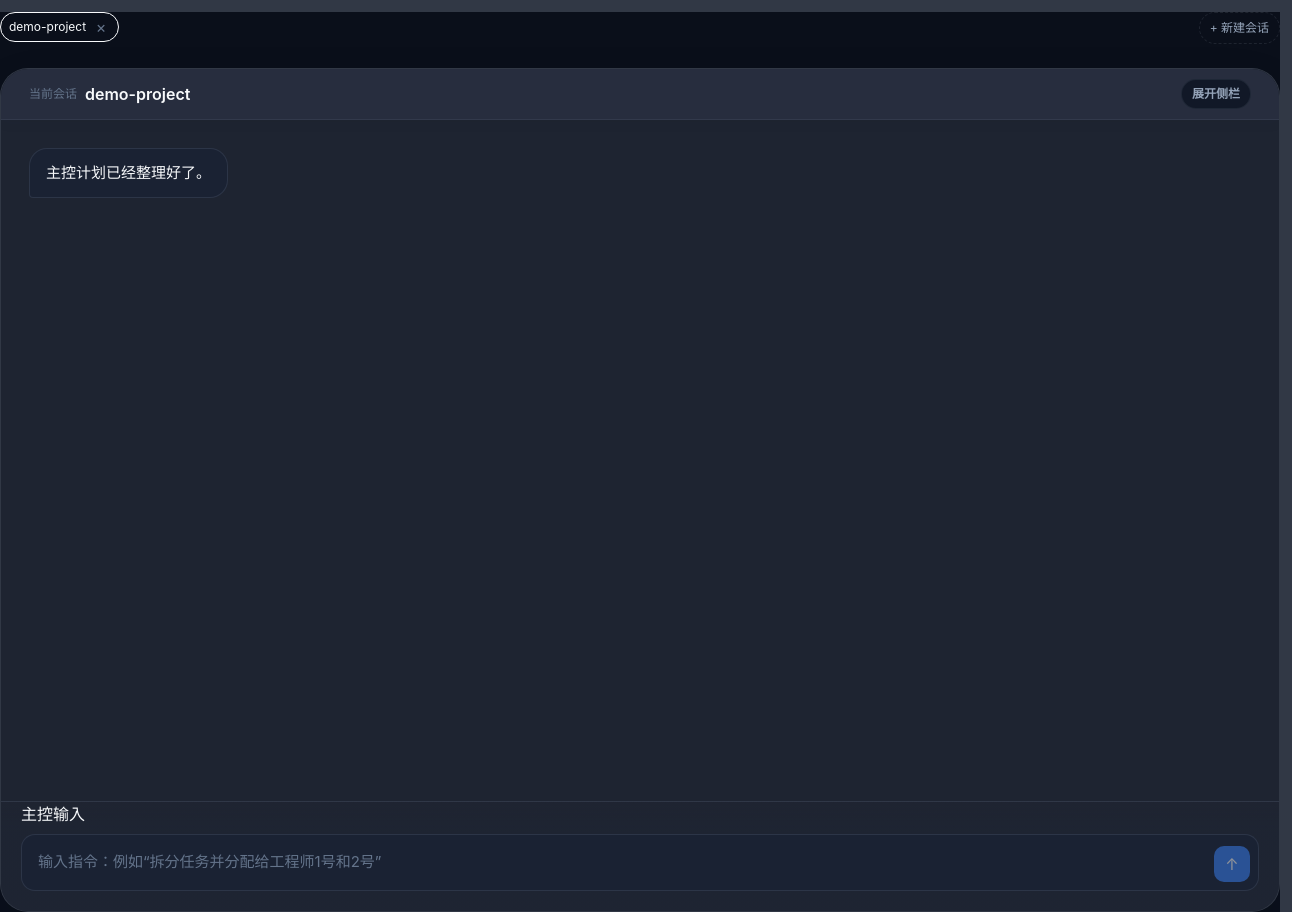
Test: opens control drawer with auto-focused executor panel when execution is active
The width and height of the screenshot is (1292, 912).
Click the button with aria-label "展开高级信息" at (1216, 94), box [1181,79,1251,109]
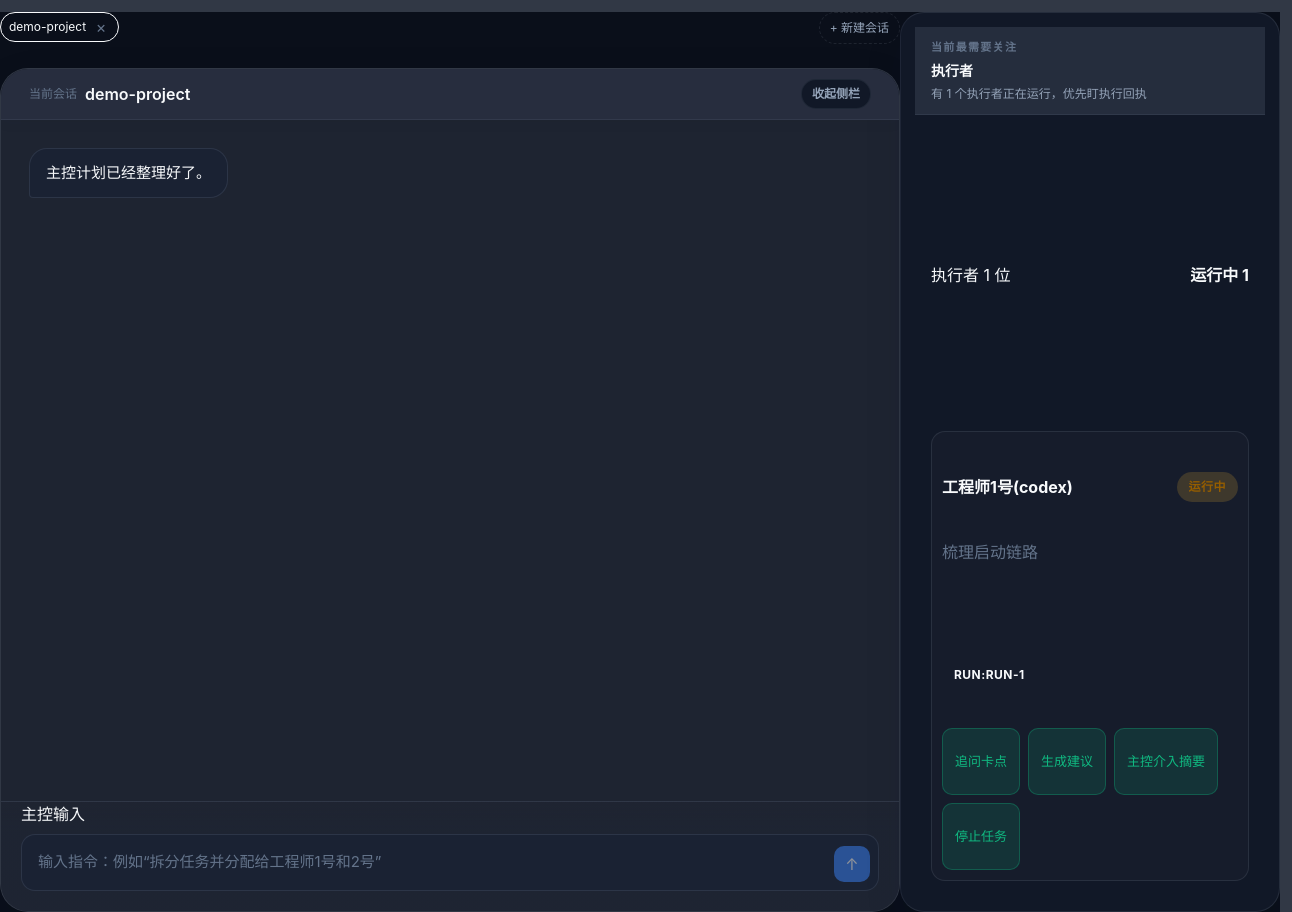
expect the text "当前最需要关注" is shown: met, box [931,40,1017,54]
expect the text "执行者" is shown: met, box [931,62,973,78]
expect the text "执行者 1 位" is shown: met, box [931,263,1010,287]
